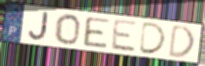D: (137, 21, 168, 56), (167, 23, 196, 59)
E: (109, 18, 139, 54), (83, 16, 111, 50)
J: (27, 11, 50, 42)
O: (54, 13, 81, 46)
